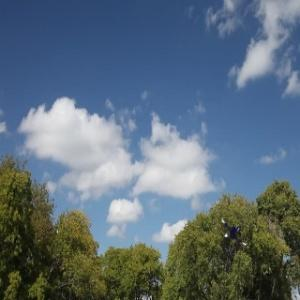drone: (218, 210, 257, 249)
